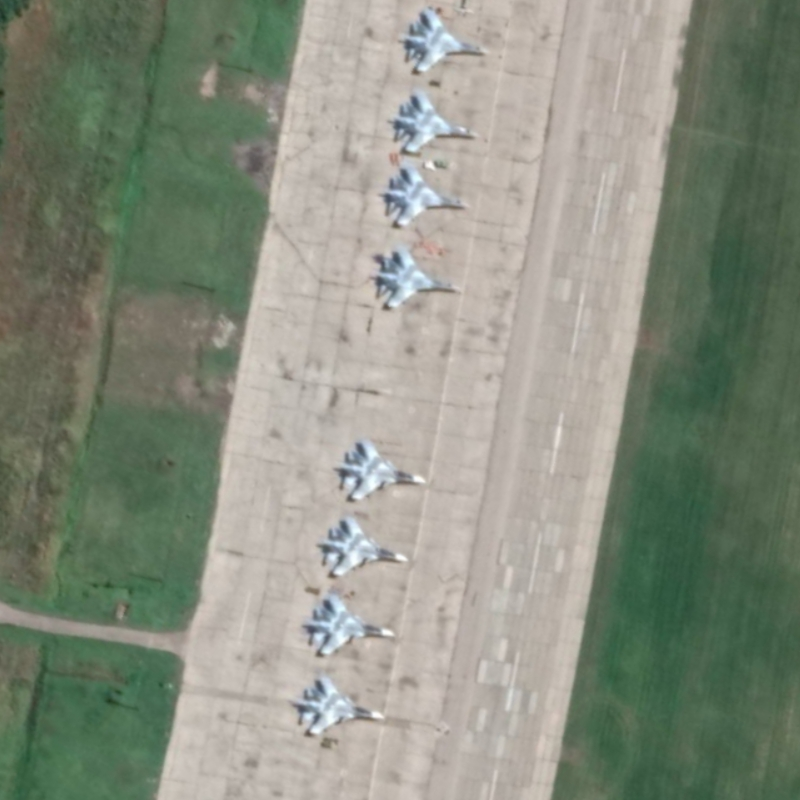A1: (399, 7, 492, 73), (390, 88, 481, 155), (373, 243, 464, 309), (383, 160, 471, 228)
A19: (303, 592, 397, 657), (292, 674, 388, 737), (336, 438, 428, 502), (321, 515, 410, 577)
